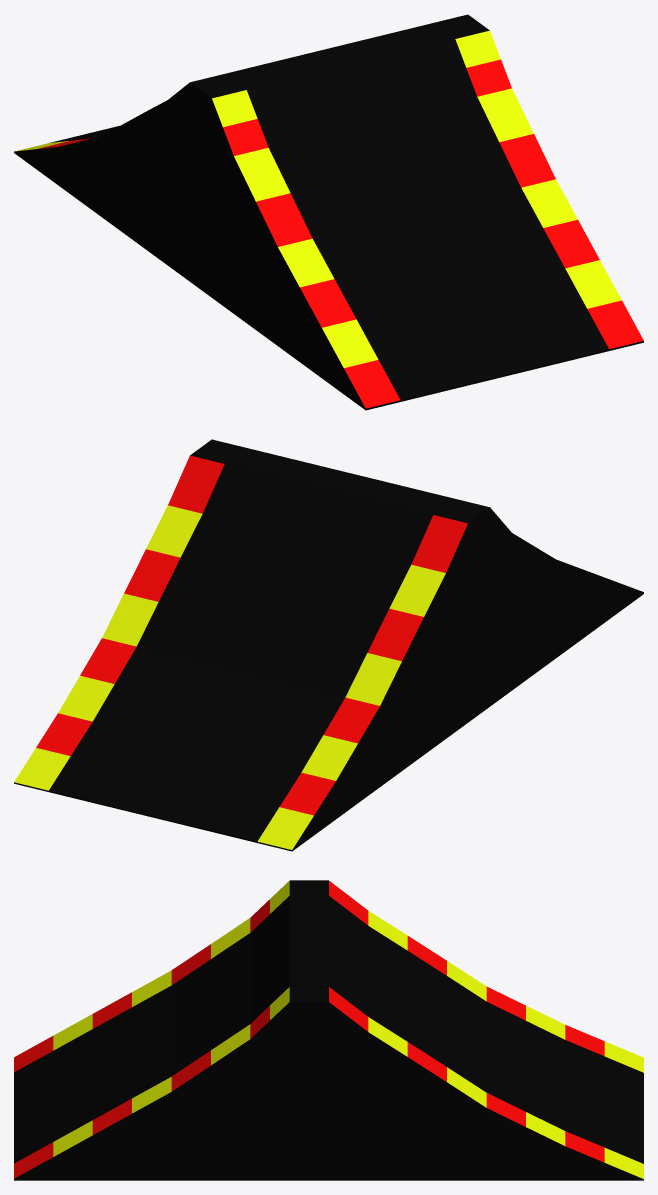
File: BigJumpingMaterial.fbx
3 renders of one model, top to bottom at view 1: azimuth 30°, elevation 25°; view 2: azimuth 150°, elevation 25°; view 3: azimuth 270°, elevation 25°, orthographic. The views are drawn at different scales.
Visible parts, largest first — view 1: ジャンプ台(大)エキサイトバイク; view 2: ジャンプ台(大)エキサイトバイク; view 3: ジャンプ台(大)エキサイトバイク.
Boxes of the visible parts, x1=… form: ジャンプ台(大)エキサイトバイク: x1=14, y1=14, x2=643, y2=410; ジャンプ台(大)エキサイトバイク: x1=14, y1=439, x2=643, y2=851; ジャンプ台(大)エキサイトバイク: x1=14, y1=880, x2=643, y2=1180.
Bounding box in the file's own units: 12.19 × 8.35 × 26.7.
